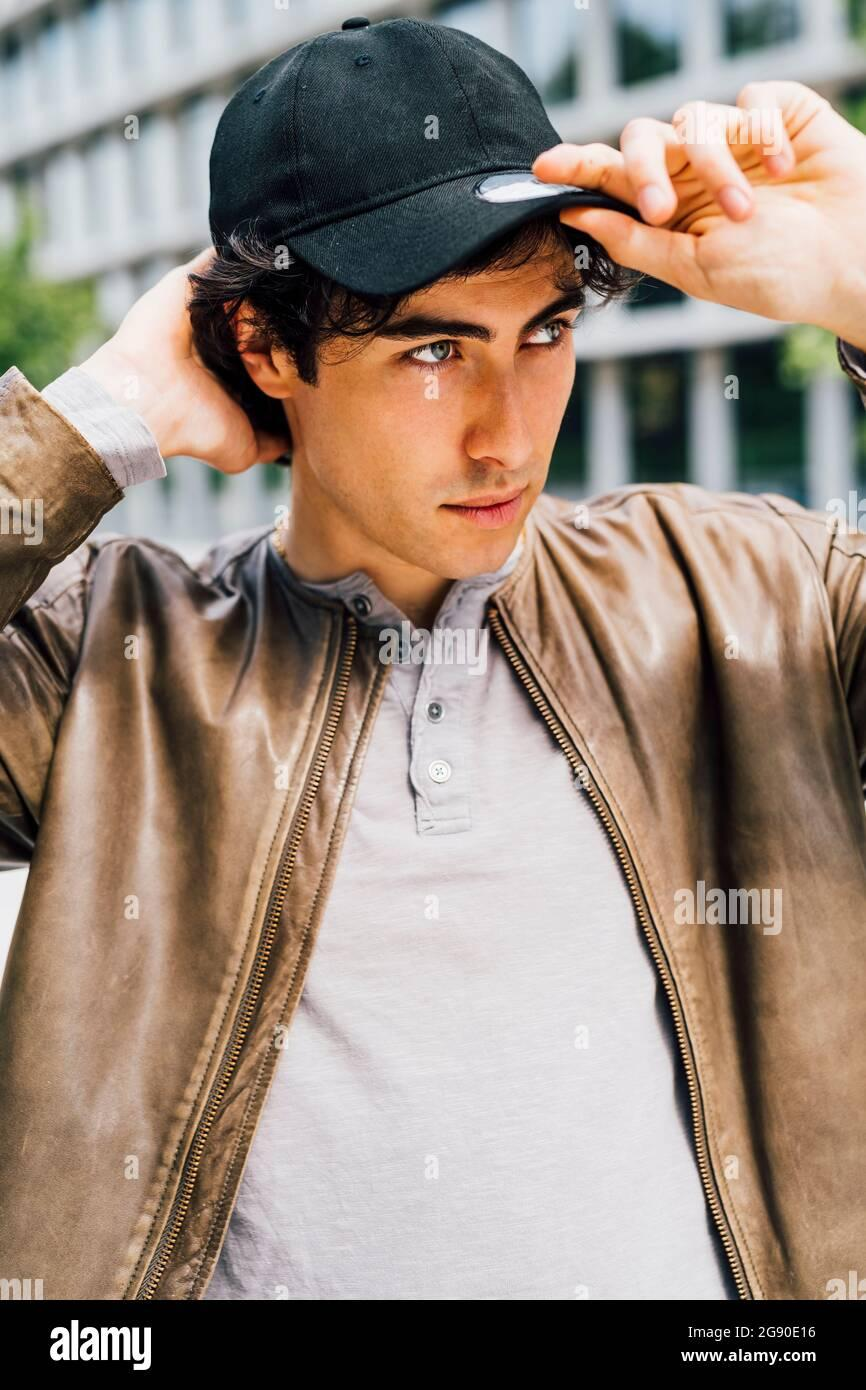cap: (187, 13, 657, 287)
